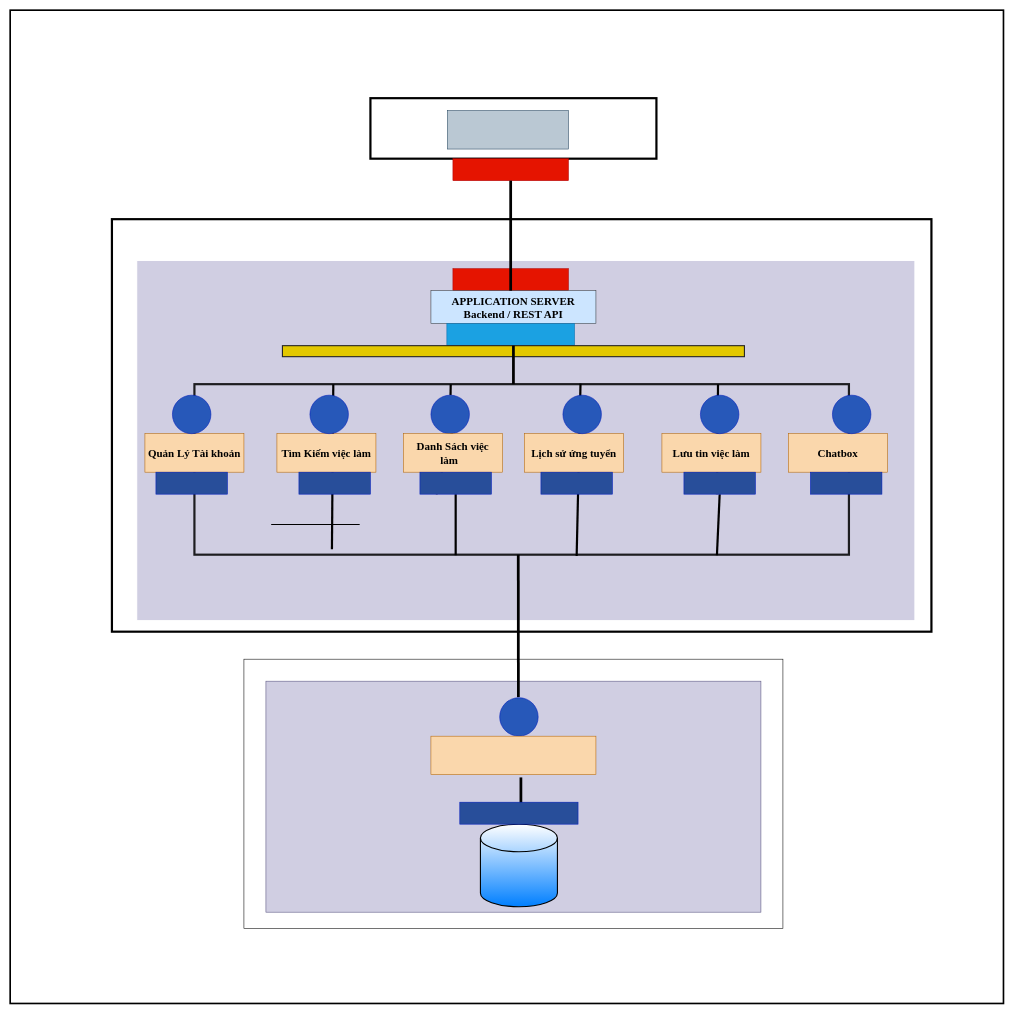
Some shapes in this 1014 by 1014 pixel diagram are drawn without their labels. Each missing label, with the centre of its shape:
CLIENT Web Browser React.js – Frontend: (507,129)
Crawl Service: (513,755)
Cơ Sở Dữ Liệu PostgreSQL: (519,865)
